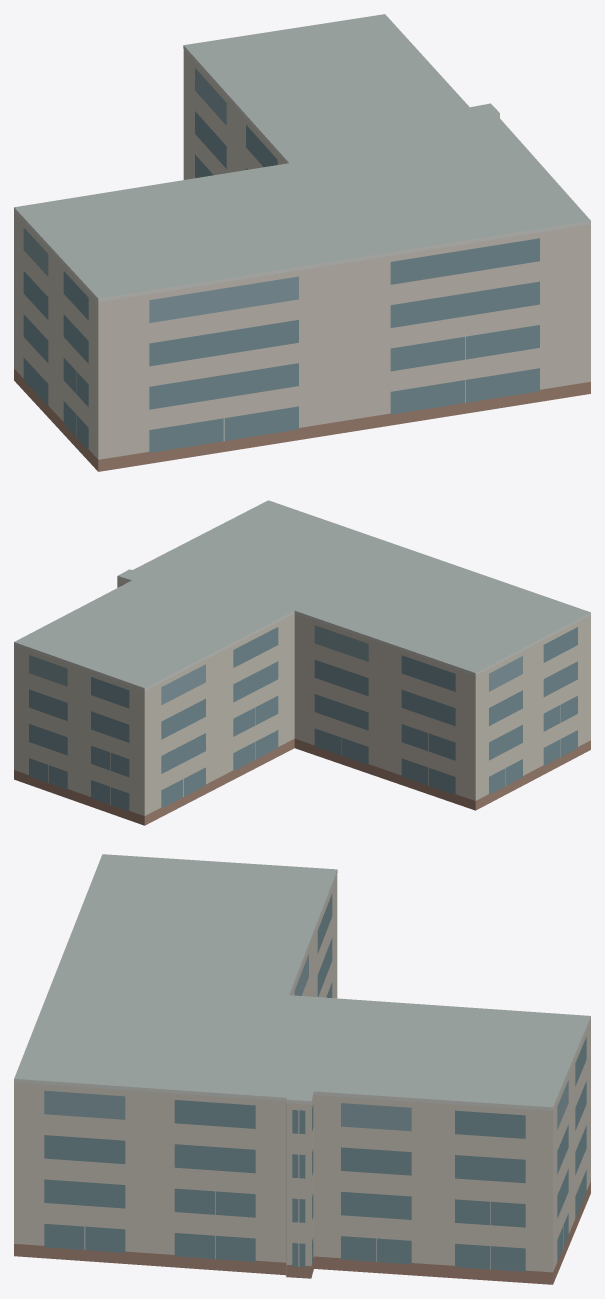
File: survey-upis-32581589.glb
3 views of the same model, one above another, from view 1: azimuth 30°, elevation 25°; view 2: azimuth 150°, elevation 25°; view 3: azimuth 270°, elevation 25° (orthographic). The views are drawn at different scales.
Parts seen in each view (by area): view 1: survey-upis-32581589.tmp; view 2: survey-upis-32581589.tmp; view 3: survey-upis-32581589.tmp.
Part boxes in pixels (left/top/right/bottom): survey-upis-32581589.tmp: left=14, top=14, right=590, bottom=471; survey-upis-32581589.tmp: left=14, top=500, right=590, bottom=825; survey-upis-32581589.tmp: left=14, top=854, right=590, bottom=1284.
Size of the model in its own units: 37.36 by 12.2 by 35.96.
